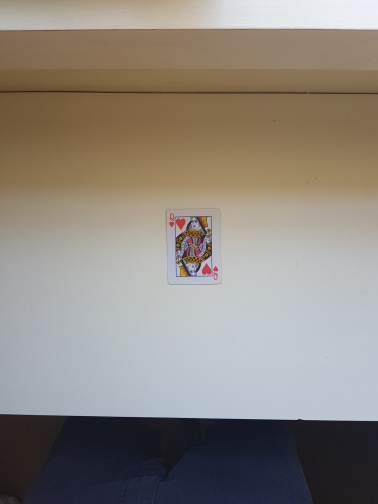queen: (164, 206, 223, 287)
